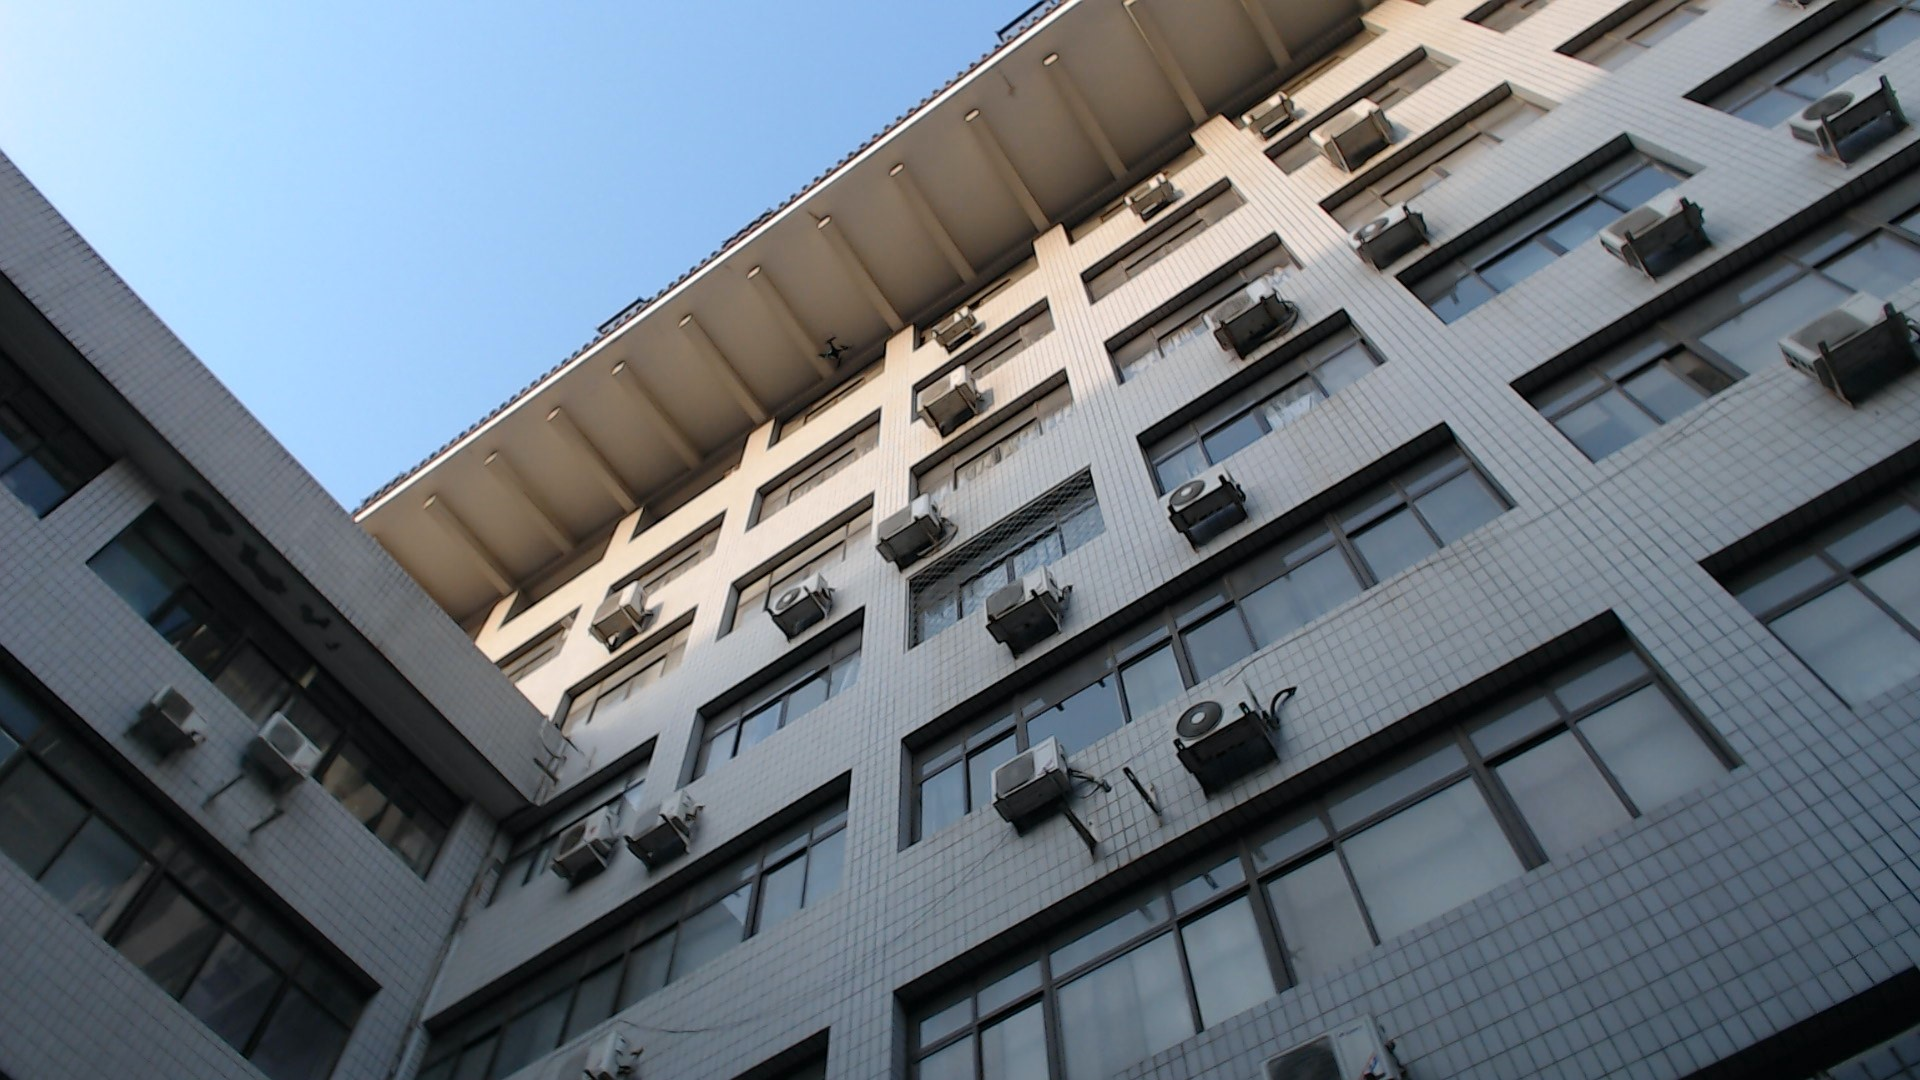drone: (799, 316, 866, 386)
